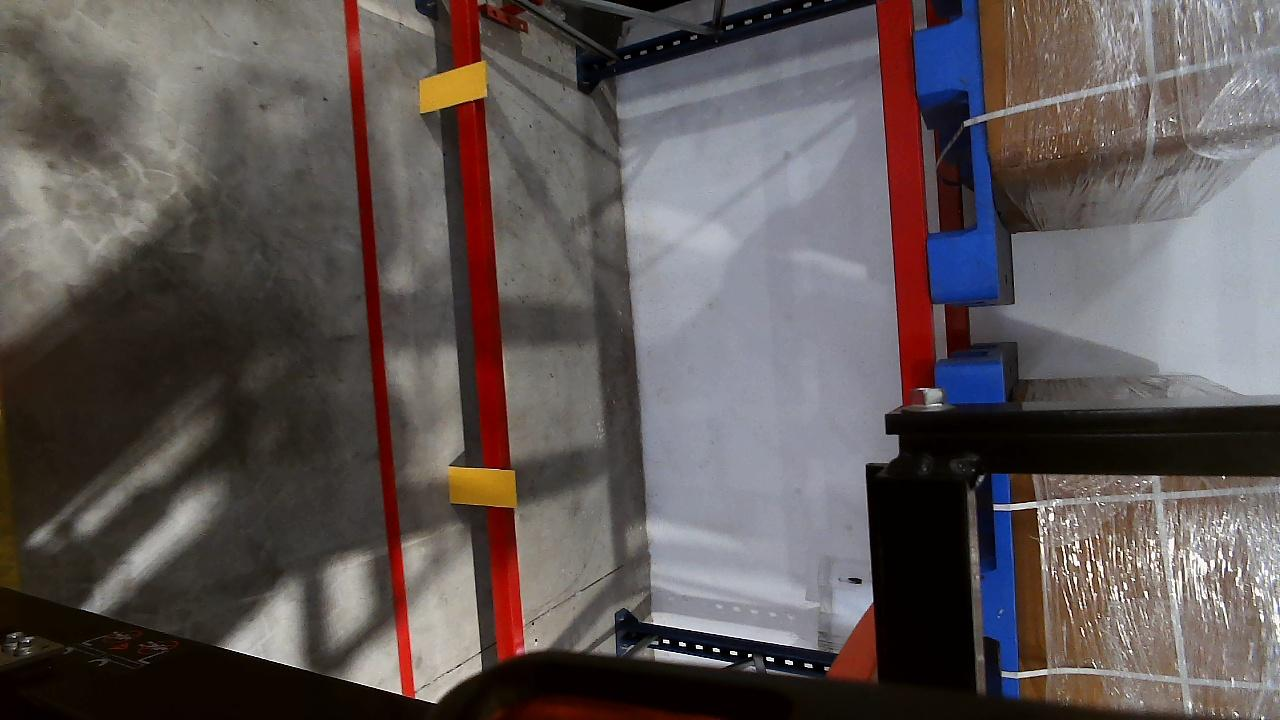h_rack: (456, 1, 532, 659), (875, 1, 935, 406)
orange_strip: (419, 60, 487, 112), (447, 466, 516, 507)
red_line: (340, 0, 418, 698)
small_pallet: (906, 2, 1003, 299)
